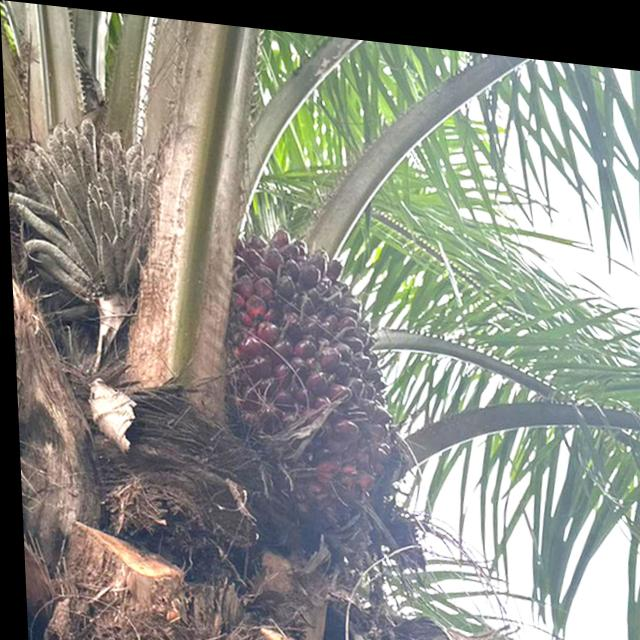ripe: (216, 212, 392, 495)
